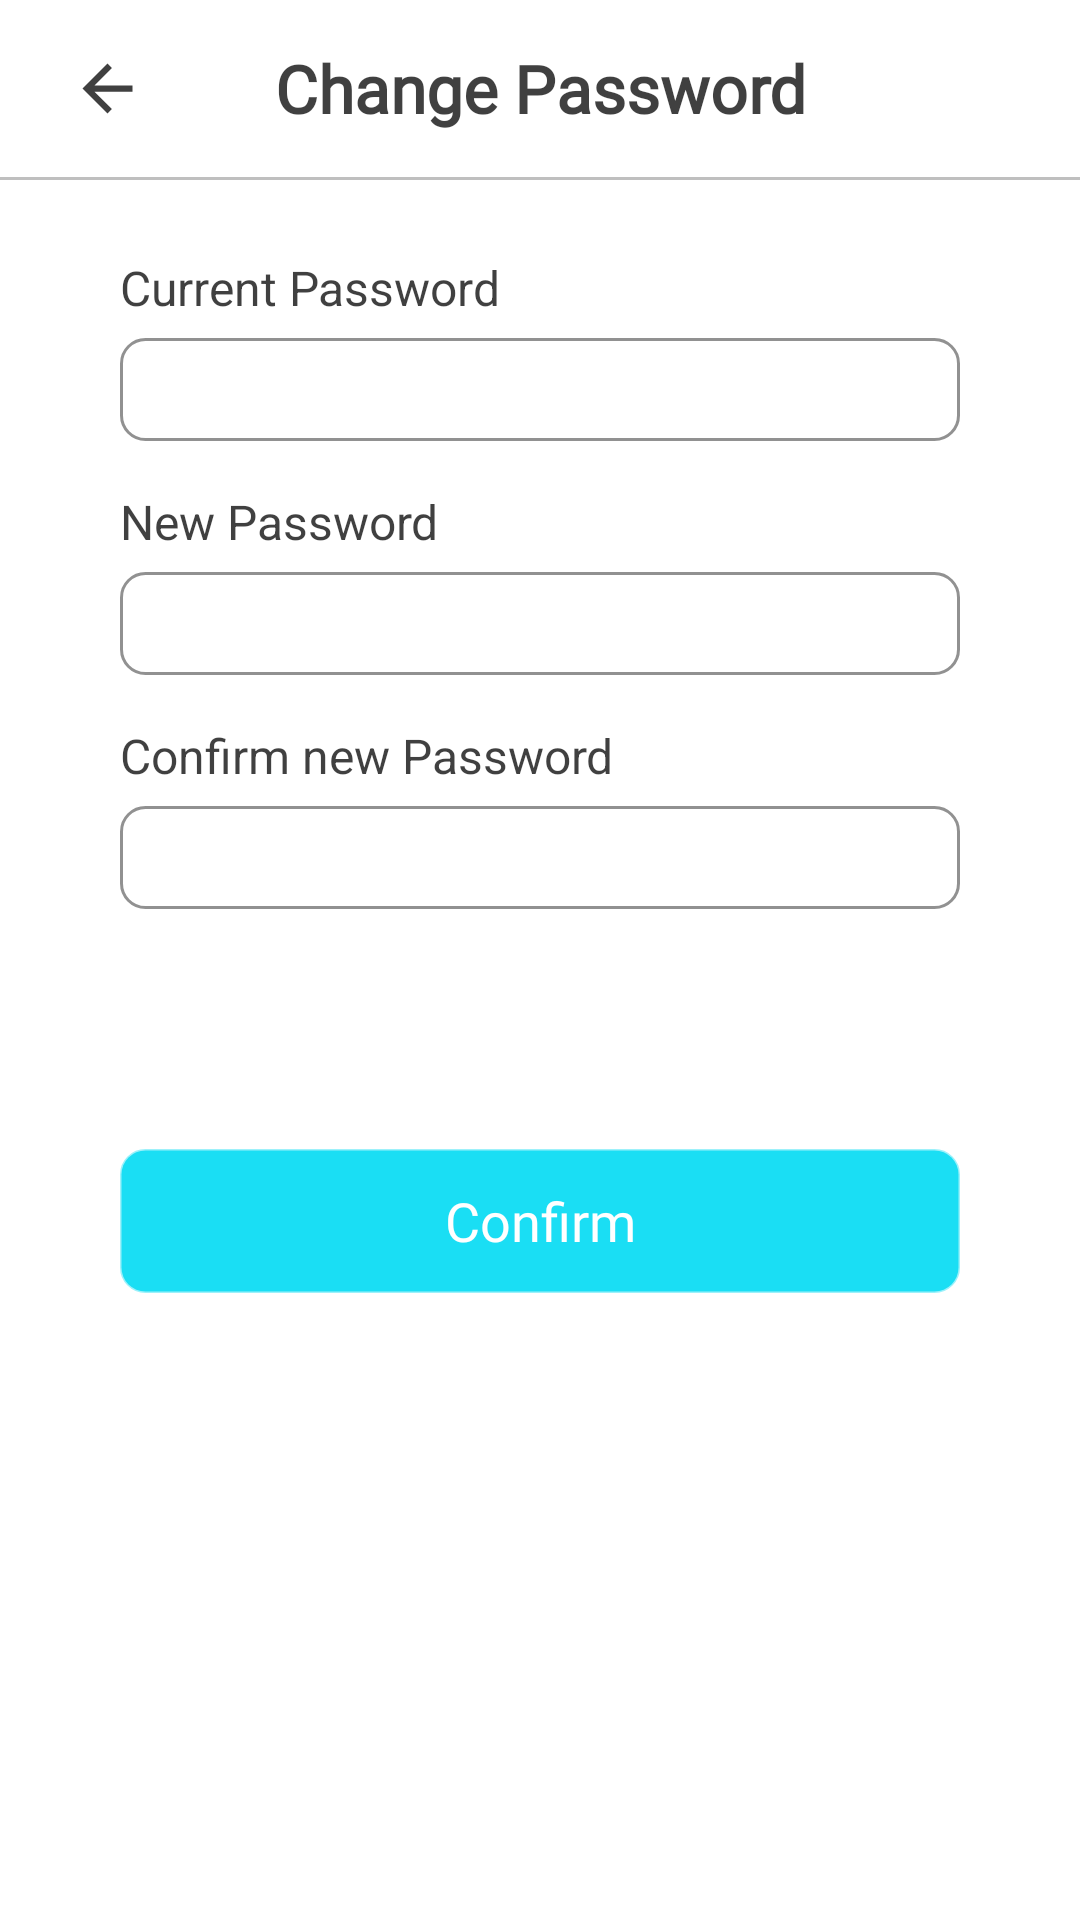

Icon bounding boxes for this 1080×1920 phone screenshot, format box=[x1, y1, x2, y2]:
arrow back: box=[82, 63, 133, 114]
